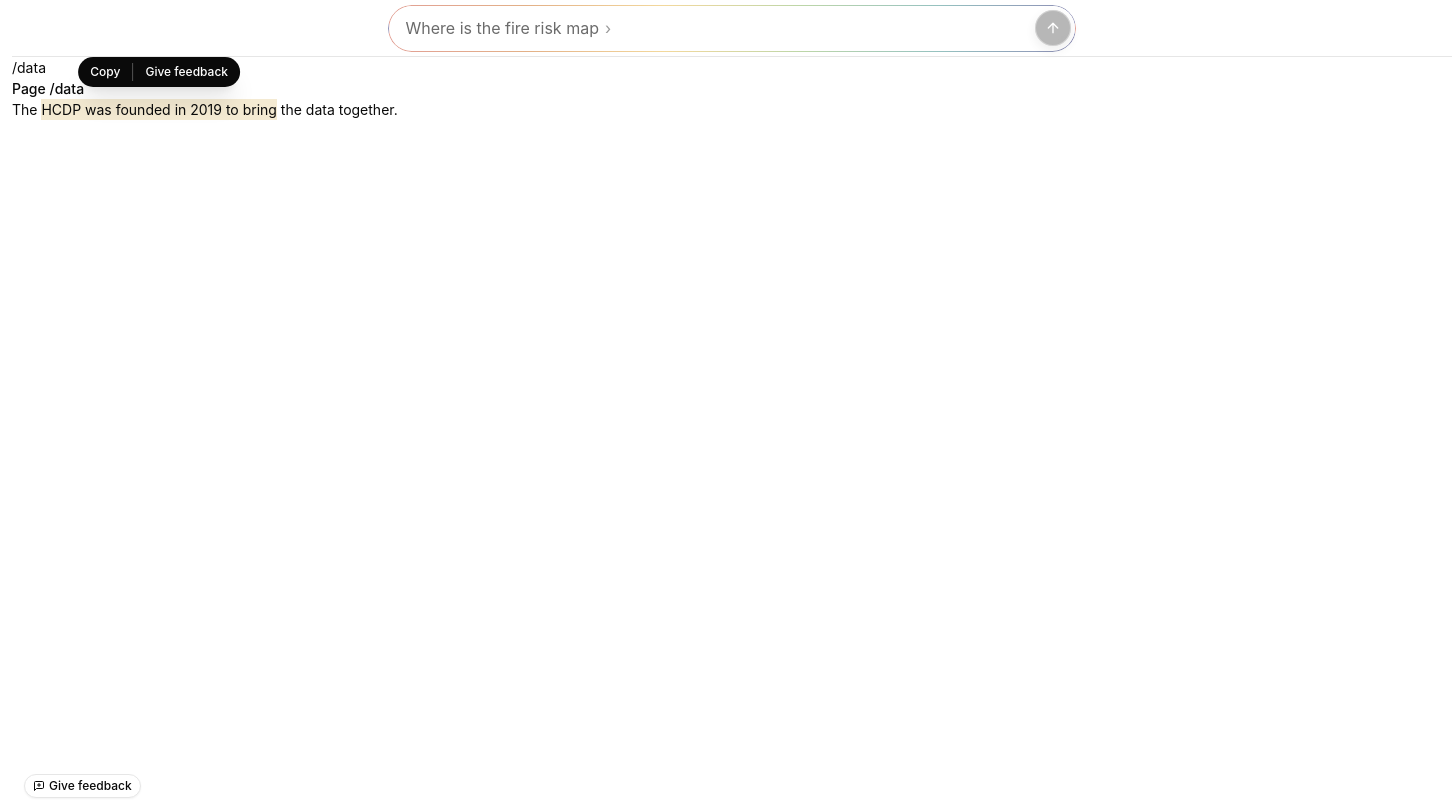
Test: the selection pill › appears over selected page text with Copy and Give feedback; Copy copies the passage
Click the button with test id "selection-copy" at (105, 72), box [78, 57, 132, 87]
Wait 5 ms
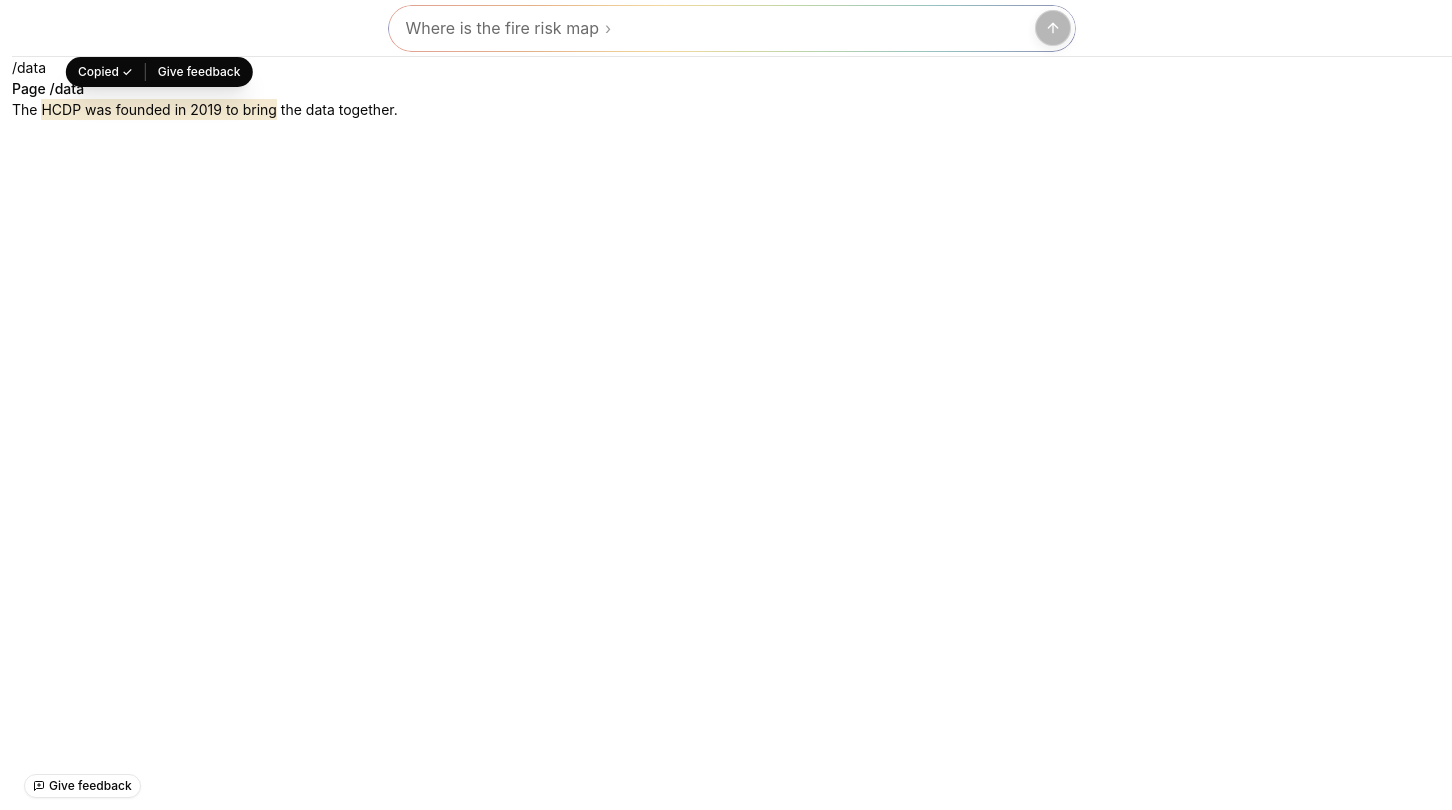
Now the button with test id "selection-copy" reads "Copied ✓", box [66, 57, 145, 87]
